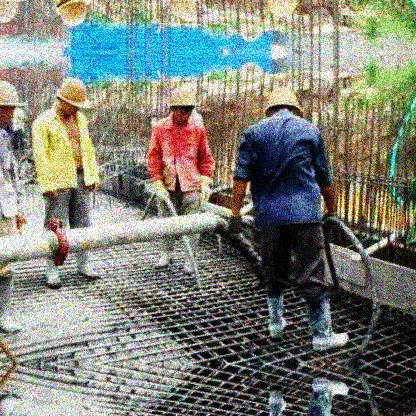helmet: (55, 78, 91, 119), (1, 79, 27, 127), (263, 90, 305, 119), (168, 87, 200, 124)
